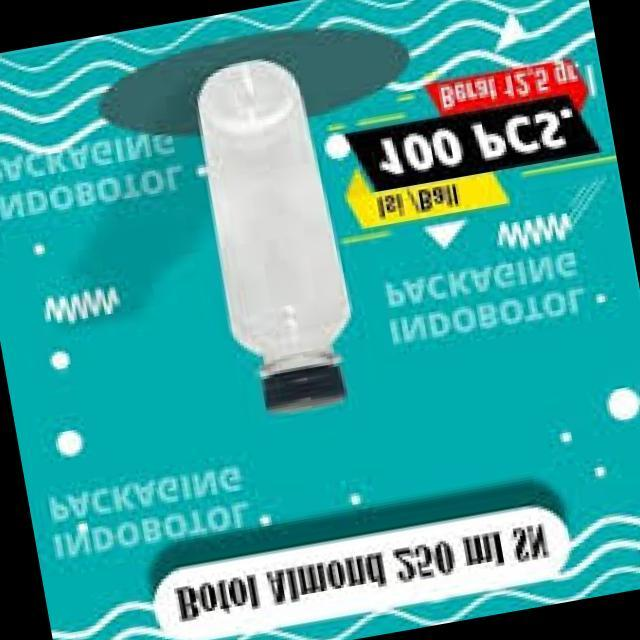good: (179, 40, 376, 422)
